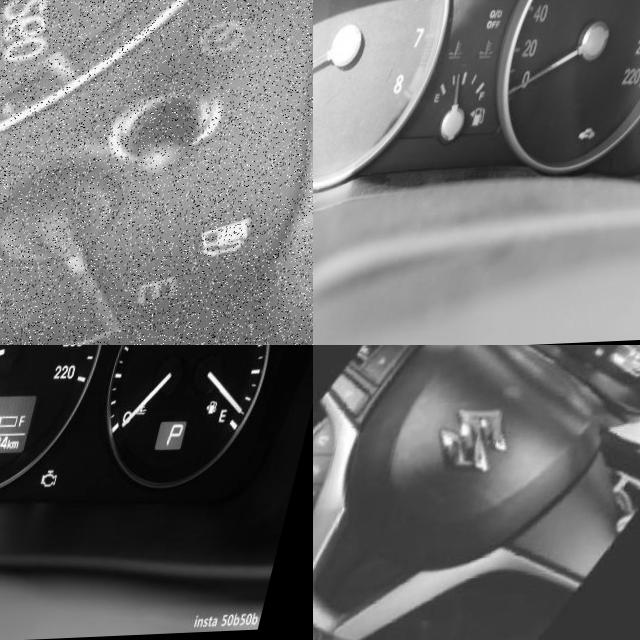Engine cooling system: (495, 42, 512, 61)
